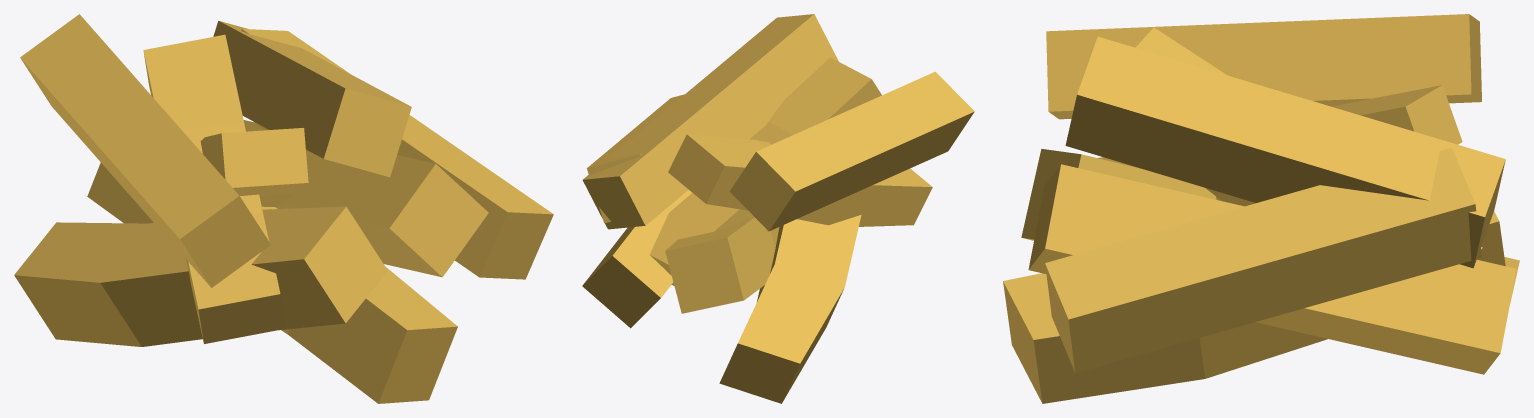
The model's file is FriesRaw.glb.
3 views of the same model, side by side, from view 1: azimuth 30°, elevation 25°; view 2: azimuth 150°, elevation 25°; view 3: azimuth 270°, elevation 25° (orthographic). The views are drawn at different scales.
Parts seen in each view (by area): view 1: Cube.131; view 2: Cube.131; view 3: Cube.131.
Part boxes in pixels (x1,y1,x2,y2): Cube.131: (14,14,553,403); Cube.131: (582,14,974,403); Cube.131: (1003,14,1519,403).
Size of the model in its own units: 0.4322 by 0.3721 by 0.4664.
